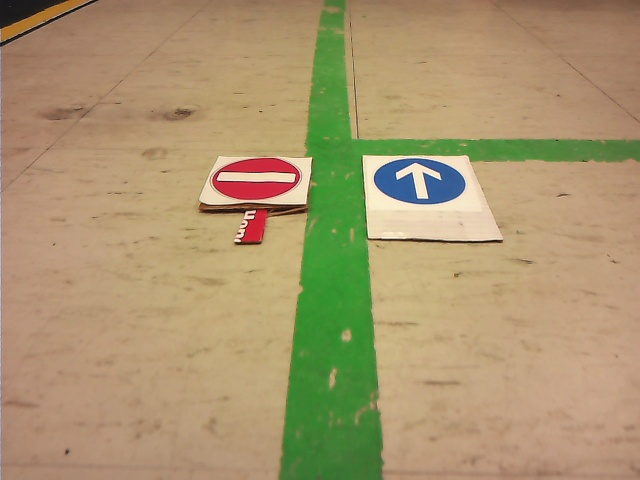GO FORWARD: (375, 158, 466, 204)
NO ENTRY: (213, 158, 301, 200)
